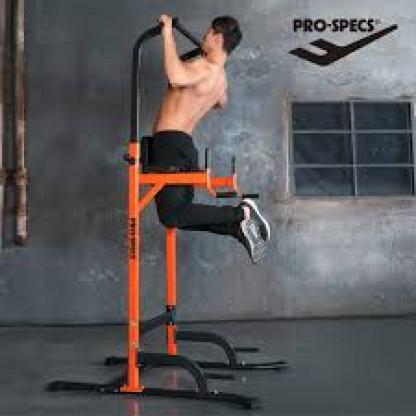chinning dipping: (46, 12, 287, 412)
